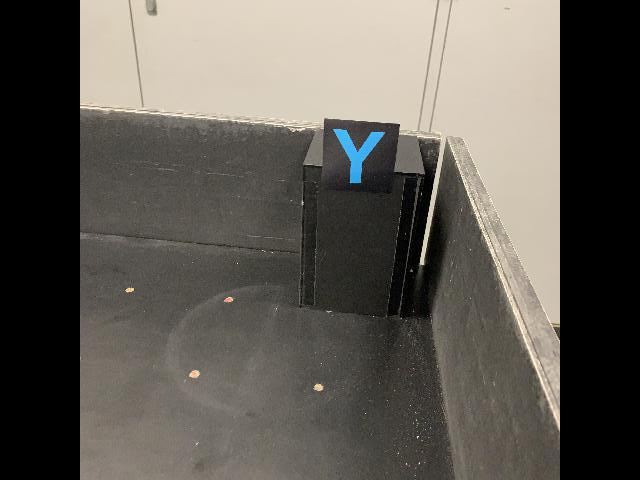y: (322, 117, 401, 195)
